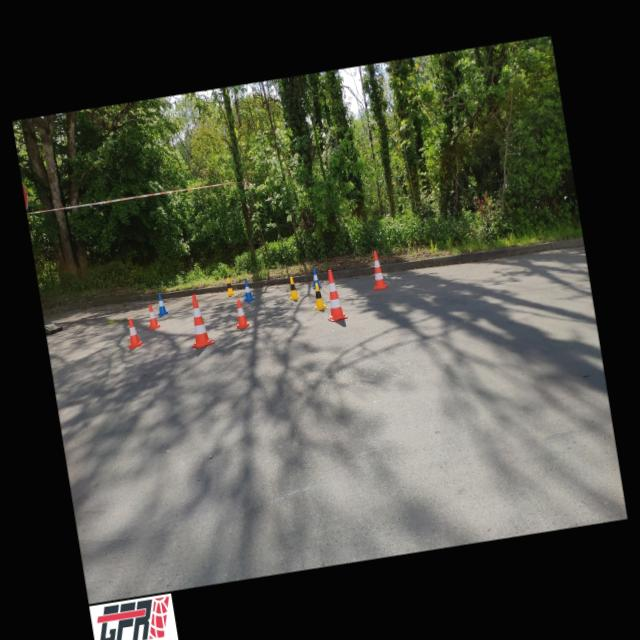blue_cone: (240, 280, 254, 302), (155, 294, 168, 316), (310, 268, 322, 290)
large_orange_cone: (184, 292, 215, 348), (321, 268, 348, 322), (367, 243, 386, 292)
orange_cone: (232, 298, 252, 329), (124, 317, 143, 348), (144, 303, 162, 330)
yellow_cone: (310, 282, 328, 311), (286, 276, 300, 300), (224, 277, 235, 296)
